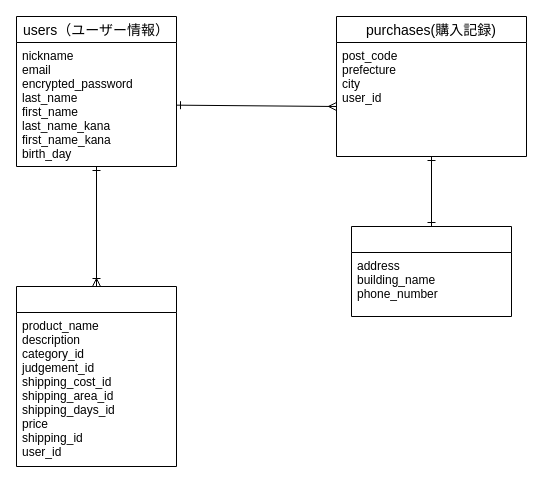
Image size: 543x483. Some labels were removed from this diagram. The box of each missing label's shape, as (x1, y1, x2, y2) in pixels:
information(配送先情報): (350, 226, 512, 316)
products（商品情報）: (16, 286, 176, 466)
